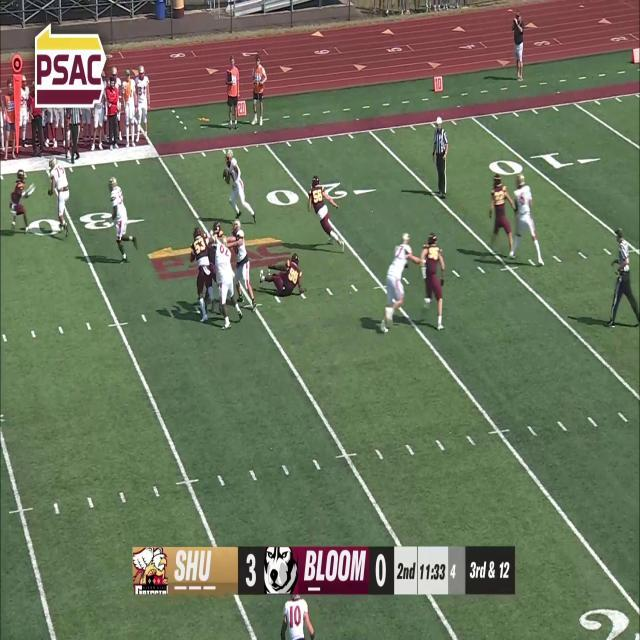football: (222, 168, 230, 186)
